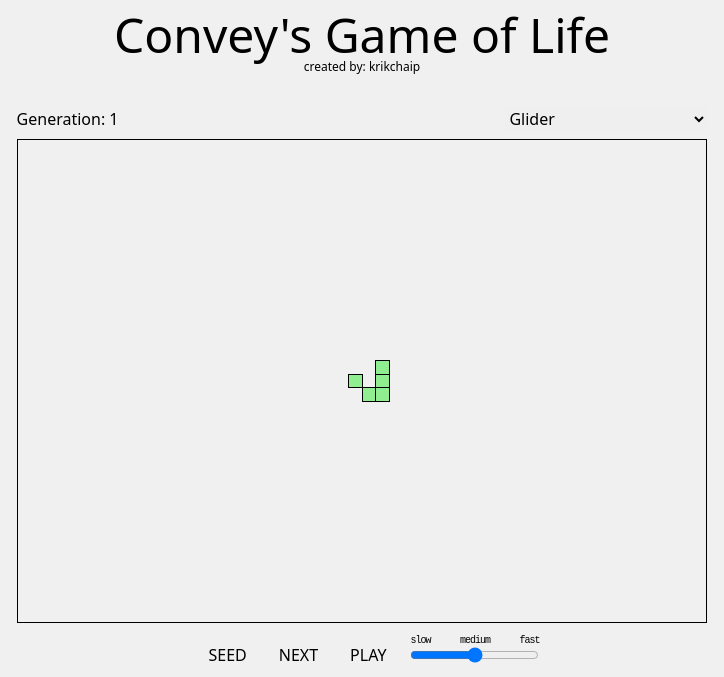
Test case: game › generation update › reset when seed
This screenshot has width=724, height=677.
Expected: the text "Generation: 1" is shown, [17,107,118,131]
What coordinates should you click on to do the following:
click the button "next"
I would click on:
 (298, 655)
Its box is [271,639,326,671].
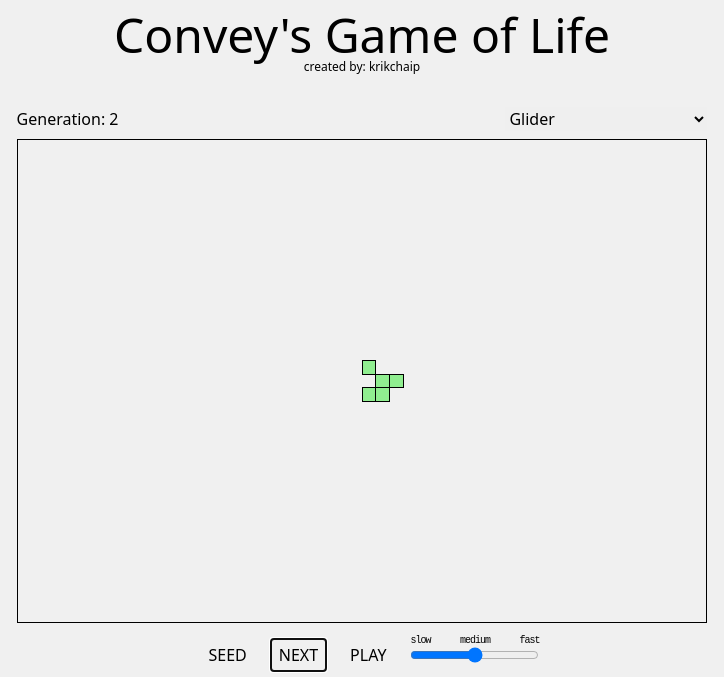
What coordinates should you click on to do the following:
click the button "next"
I would click on:
 (298, 655)
Its box is [271,639,326,671].
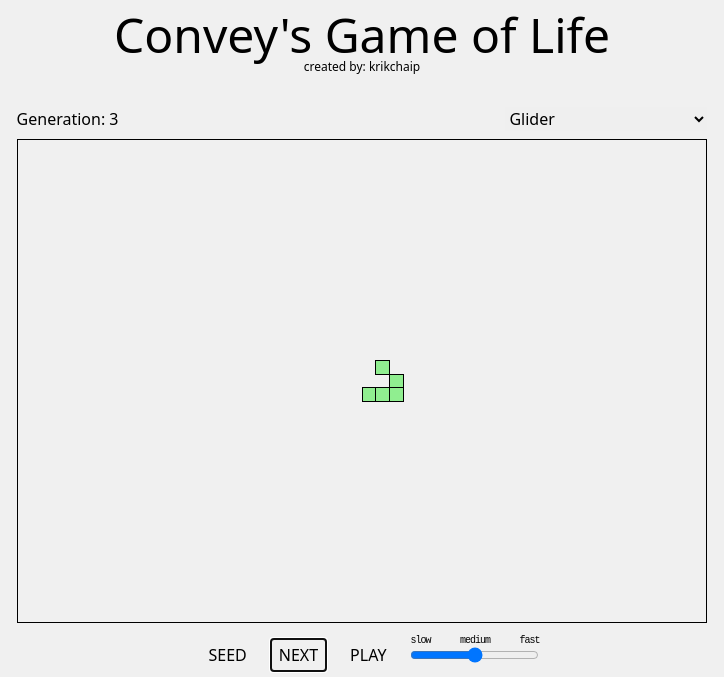
What coordinates should you click on to do the following:
click the button "next"
I would click on:
 (298, 655)
Its box is [271,639,326,671].
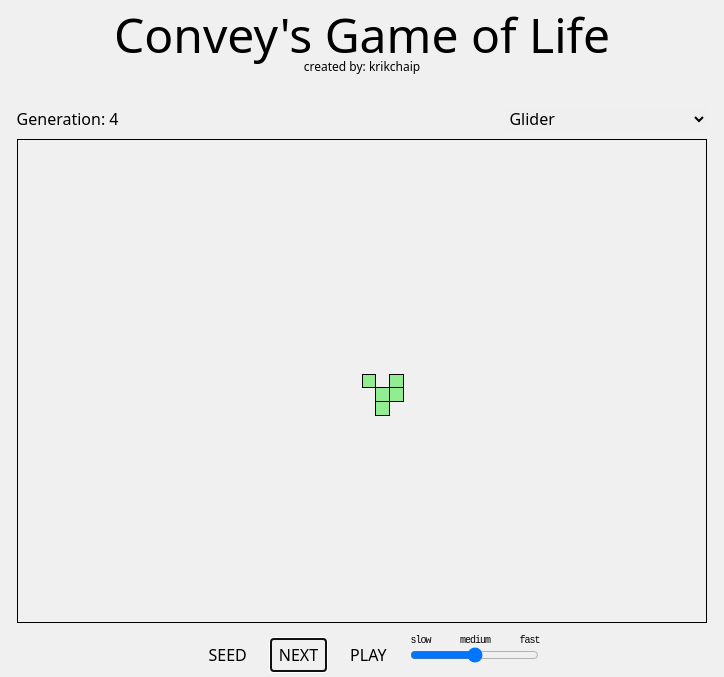
What coordinates should you click on to do the following:
click the button "seed"
I would click on:
 (228, 655)
Its box is [200,639,255,671].
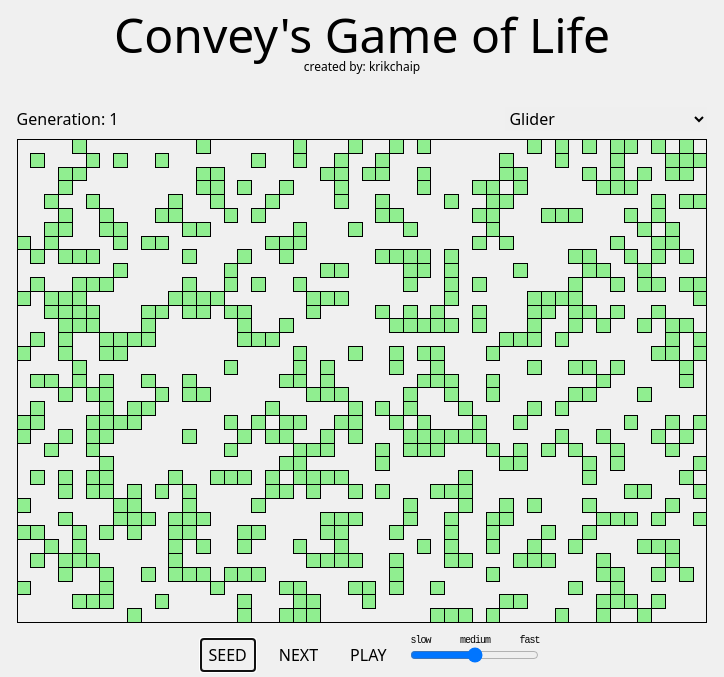
Result: the text "Generation: 1" is shown at [17,107,118,131]
